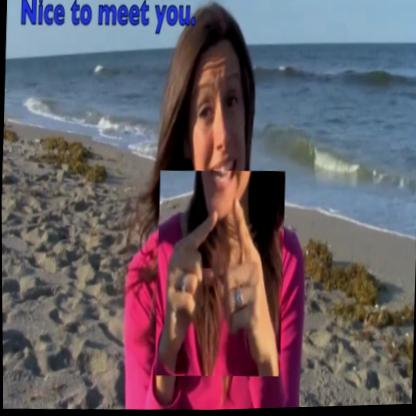NiceToMeetYou: (153, 169, 286, 381)
